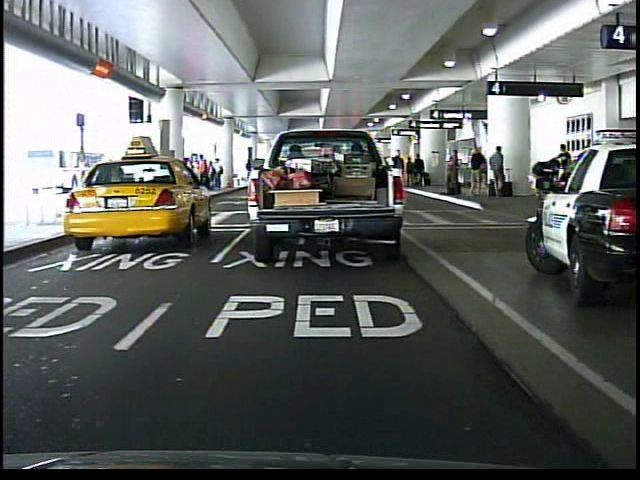person: (327, 141, 360, 223), (385, 143, 410, 210), (553, 139, 577, 200), (242, 154, 258, 191)
